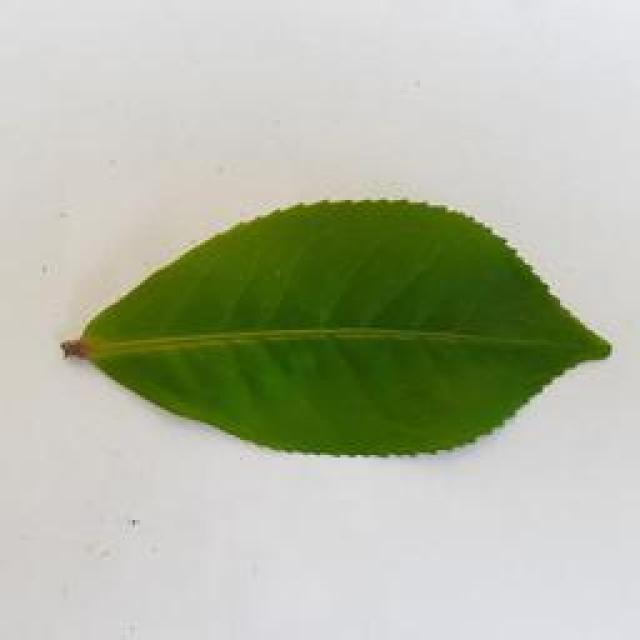Healthy: (53, 181, 634, 464)
